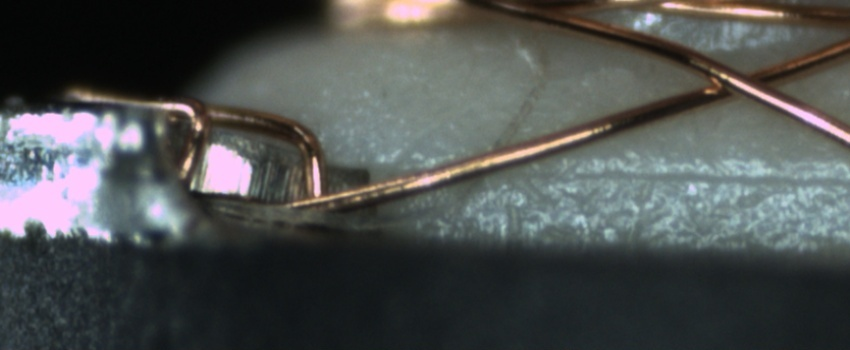CL: (684, 58, 800, 106)
DL: (420, 143, 850, 207)
TE: (59, 79, 339, 214)
